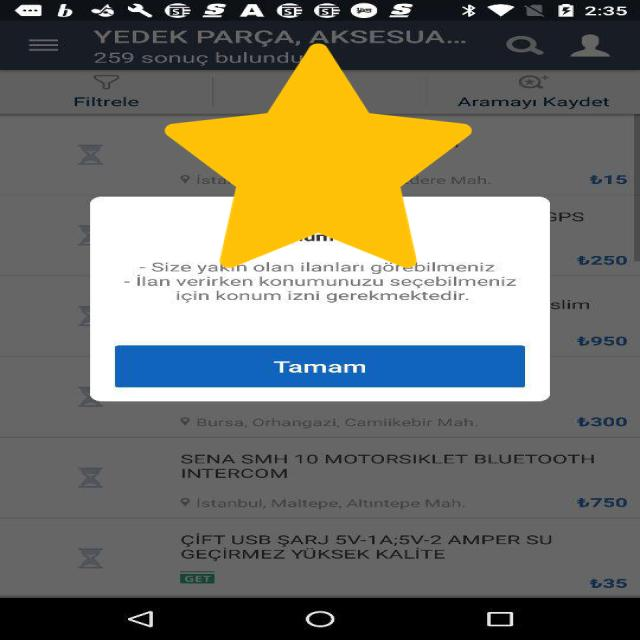forced continuity: (165, 43, 472, 268)
